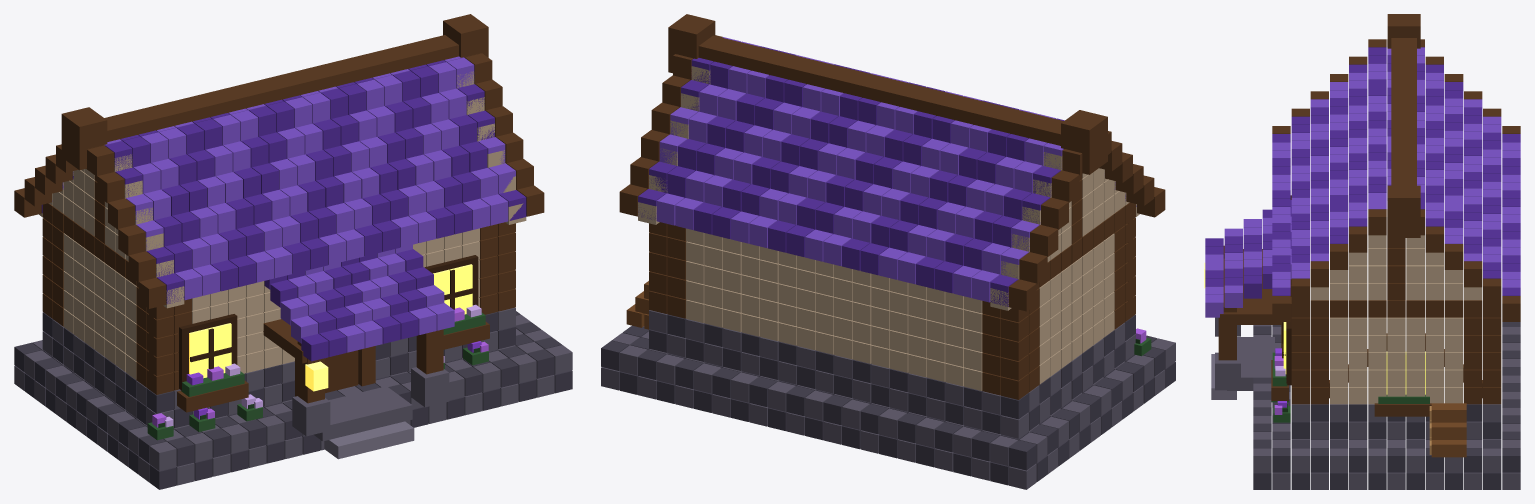
File: cottage-timber.glb
The picture shows the model from 3 angles, left to right: view 1: azimuth 30°, elevation 25°; view 2: azimuth 150°, elevation 25°; view 3: azimuth 270°, elevation 25°; orthographic projection. The views are drawn at different scales.
Parts seen in each view (by area): view 1: gold, roof, beam, stone, stoneDark, plaster, beamDark, leaf, glass, stoneLight, door, pink (+2 smaller); view 2: plaster, beam, gold, roof, stoneDark, stone, log; view 3: beam, gold, roof, plaster, stone, stoneDark, log, leaf, beamDark, glass, stoneLight.
Part boxes in pixels (x1,y1,x2,y2): gold: (52,56,515,352); roof: (41,60,526,361); beam: (14,14,544,412); stone: (14,307,572,485); stoneDark: (14,311,572,489); plaster: (39,71,526,379); beamDark: (178,255,478,390); leaf: (147,313,488,440); glass: (189,264,472,378); stoneLight: (324,421,414,459); door: (325,350,358,393); pink: (152,307,488,427); plaster: (638,66,1139,390); beam: (619,14,1165,399); gold: (656,37,1115,302); roof: (638,46,1136,306); stoneDark: (601,314,1175,485); stone: (601,310,1175,489); log: (626,281,649,329); beam: (1218,14,1520,416); gold: (1205,47,1520,317); roof: (1205,47,1520,298); plaster: (1310,235,1482,404); stone: (1215,317,1520,489); stoneDark: (1253,322,1520,489); log: (1431,403,1466,457); leaf: (1271,352,1429,422); beamDark: (1282,195,1291,385); glass: (1283,322,1425,394); stoneLight: (1211,354,1236,399).
Size of the model in its own units: 3.42 by 2.4 by 2.39.
